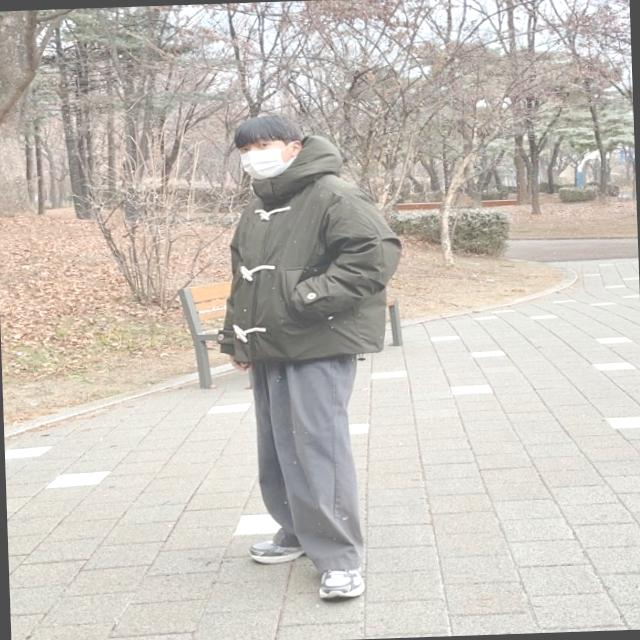cottonpants: (249, 350, 370, 585)
padding: (208, 132, 404, 365)
